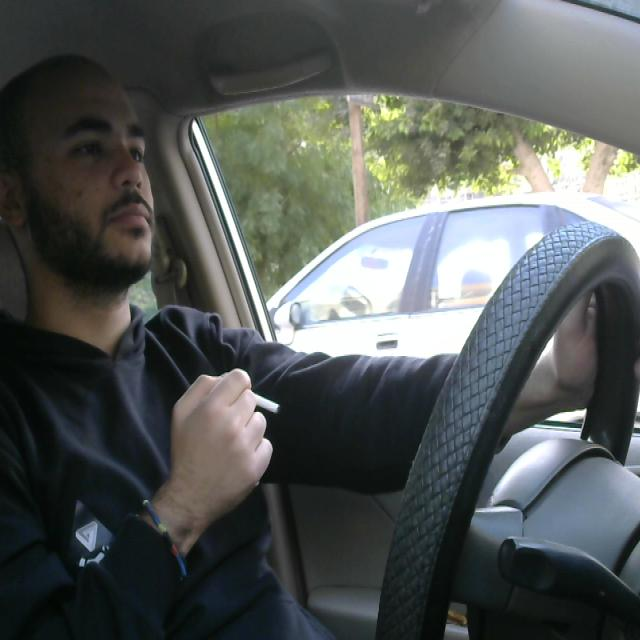smoking: (223, 388, 286, 418)
